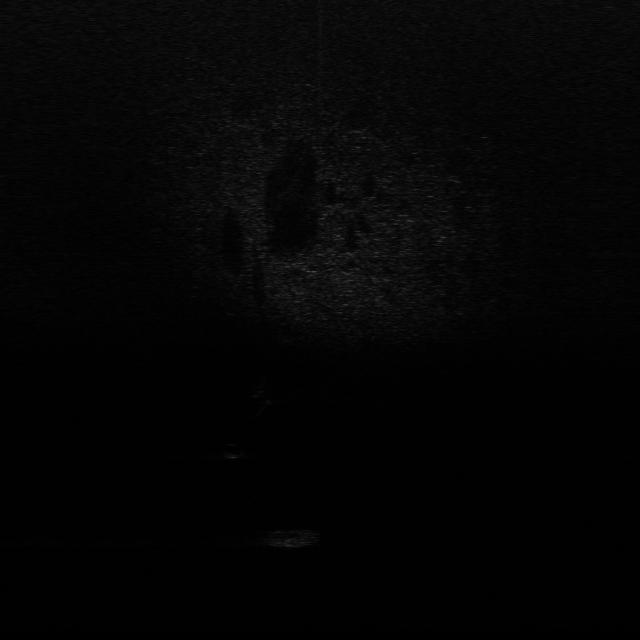ball: (218, 441, 243, 461)
circle cage: (264, 526, 322, 548)
human body: (252, 372, 272, 415)
